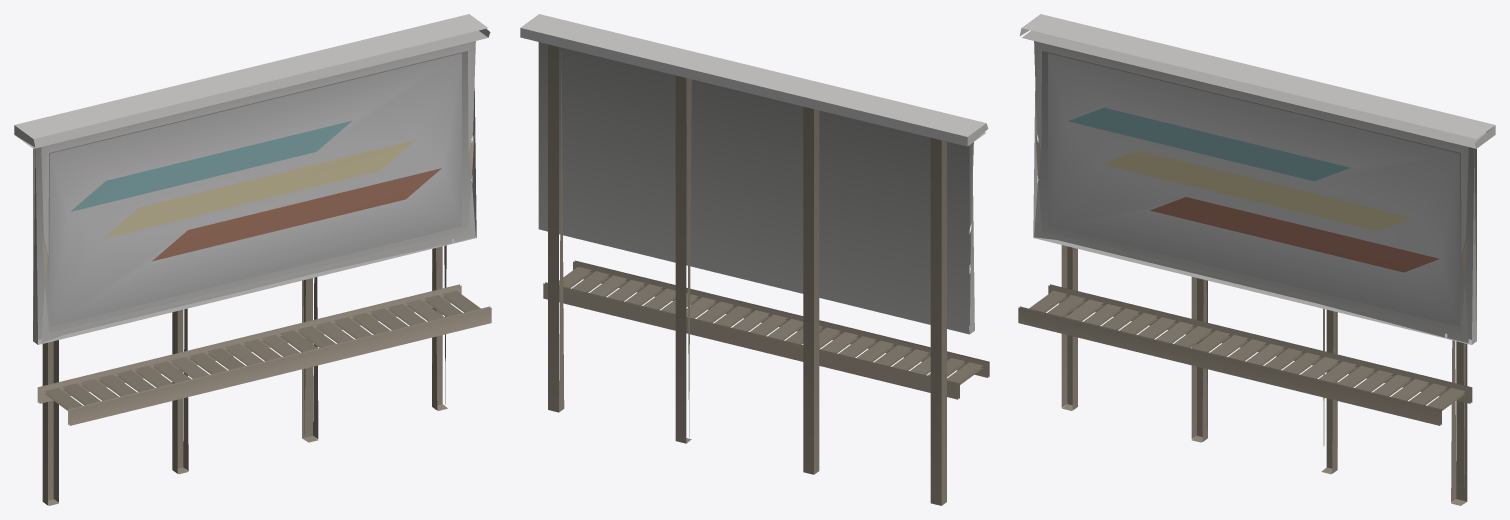
The model's file is billboard.lod.glb.
3 views of the same model, side by side, from view 1: azimuth 30°, elevation 25°; view 2: azimuth 150°, elevation 25°; view 3: azimuth 330°, elevation 25° (orthographic).
Parts seen in each view (by area): view 1: billboard.001; view 2: billboard.001; view 3: billboard.001.
Boxes of the visible parts, x1,y1,x2,y2 form: billboard.001: (14, 14, 491, 505); billboard.001: (520, 14, 989, 505); billboard.001: (1018, 14, 1495, 505).
Size of the model in its own units: 8.3 by 6.67 by 1.23.
